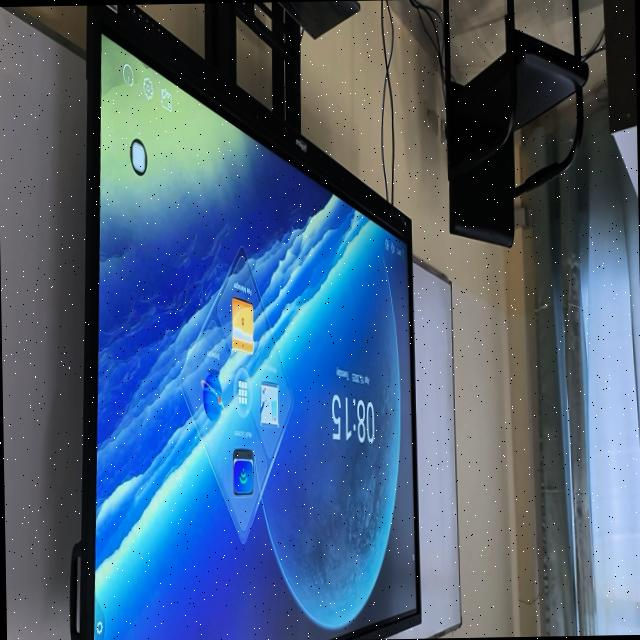Chair: (442, 0, 587, 246)
Digital board: (70, 3, 419, 640)
